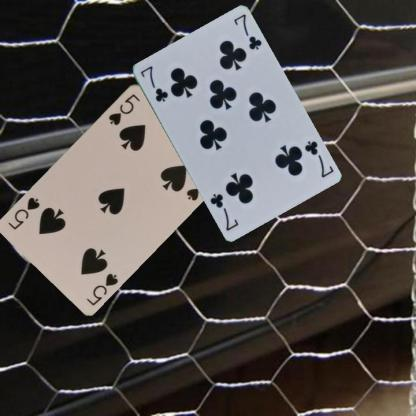5s: (106, 90, 142, 127), (84, 270, 119, 307)
7c: (301, 138, 334, 179), (138, 63, 170, 103)
